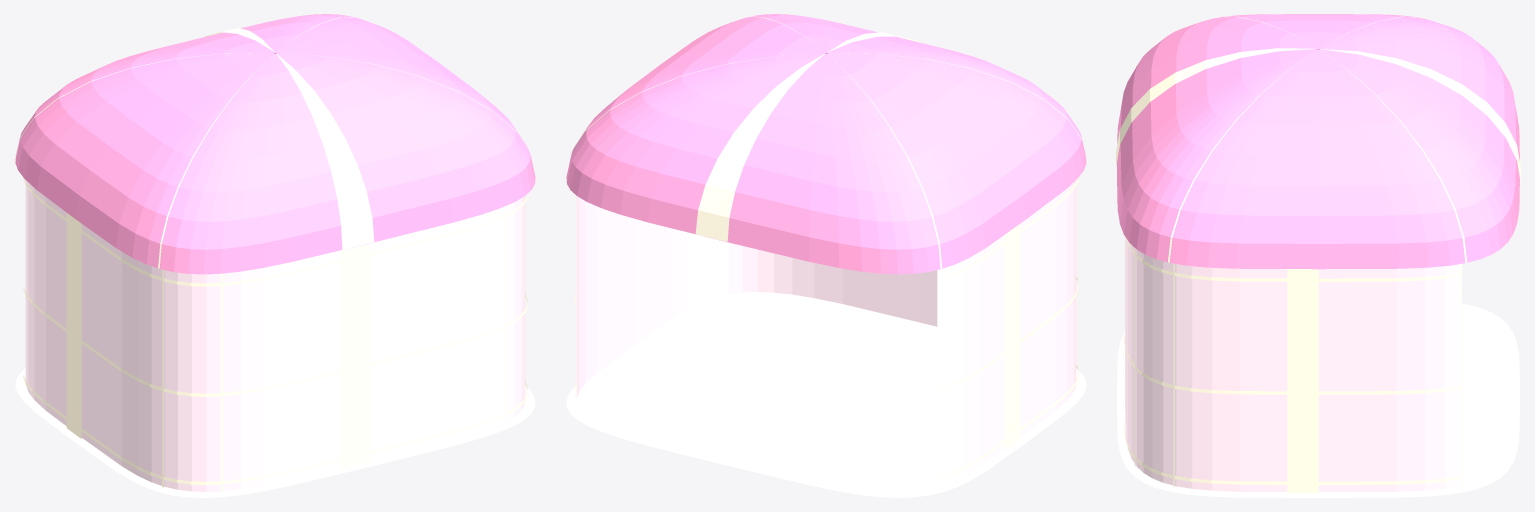
The model's file is cabin-kpop.glb.
3 views of the same model, side by side, from view 1: azimuth 30°, elevation 25°; view 2: azimuth 150°, elevation 25°; view 3: azimuth 270°, elevation 25° (orthographic). The views are drawn at different scales.
Visible parts, largest first — view 1: STARLIGHT DOME; view 2: STARLIGHT DOME; view 3: STARLIGHT DOME.
Boxes of the visible parts, left/top/right/bottom form: STARLIGHT DOME: left=14, top=14, right=535, bottom=497; STARLIGHT DOME: left=566, top=14, right=1087, bottom=497; STARLIGHT DOME: left=1116, top=14, right=1520, bottom=497.
Bounding box in the file's own units: 9.5 × 7.73 × 8.13.
